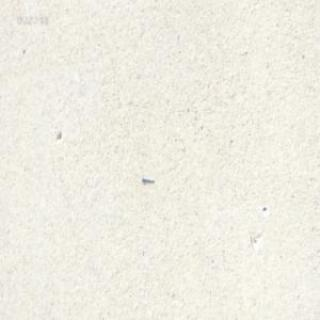Nailtrack_idkeyframe: (140, 174, 154, 182)
